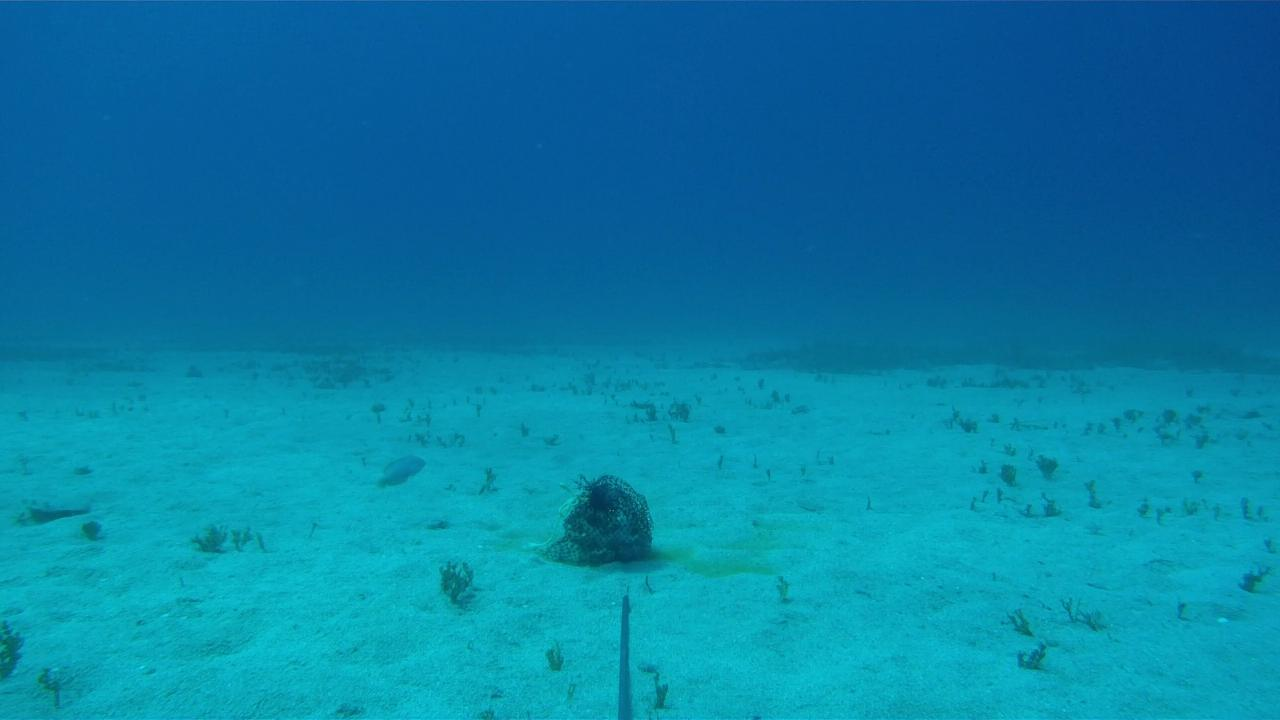bothus: (25, 488, 92, 520)
